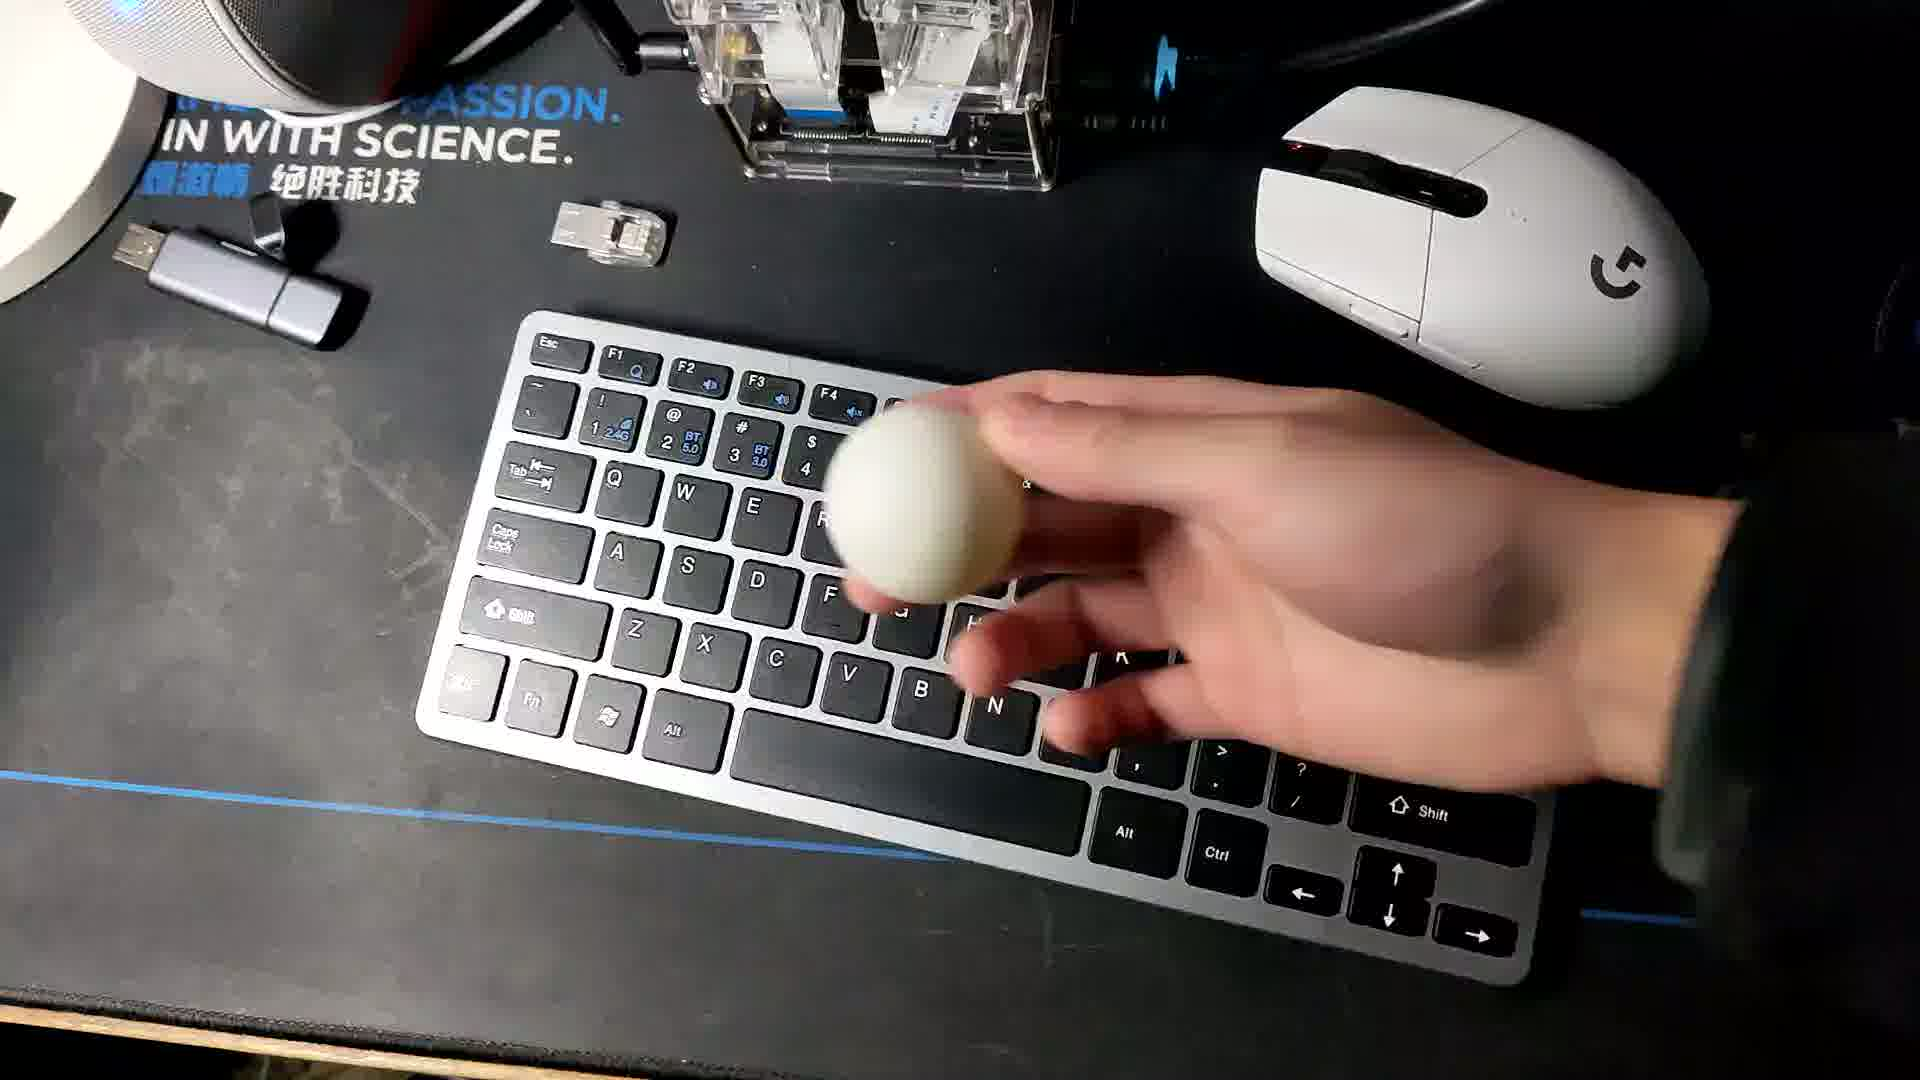Ball: (814, 402, 1021, 603)
